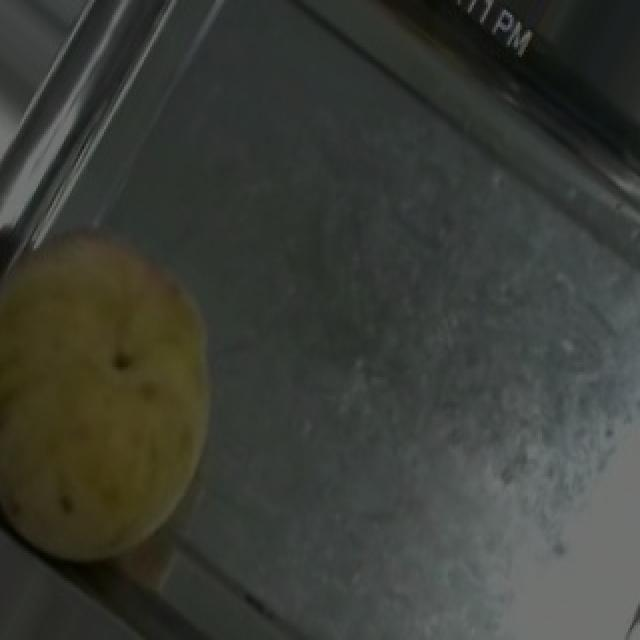Fruit: (0, 186, 262, 518)
